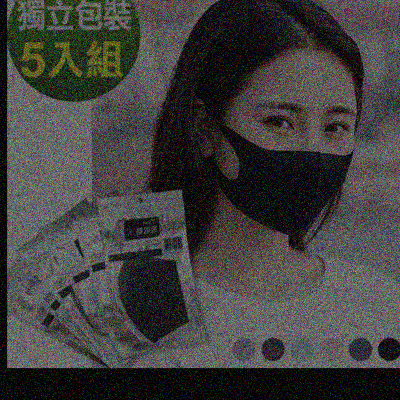with_mask: (210, 90, 356, 234)
